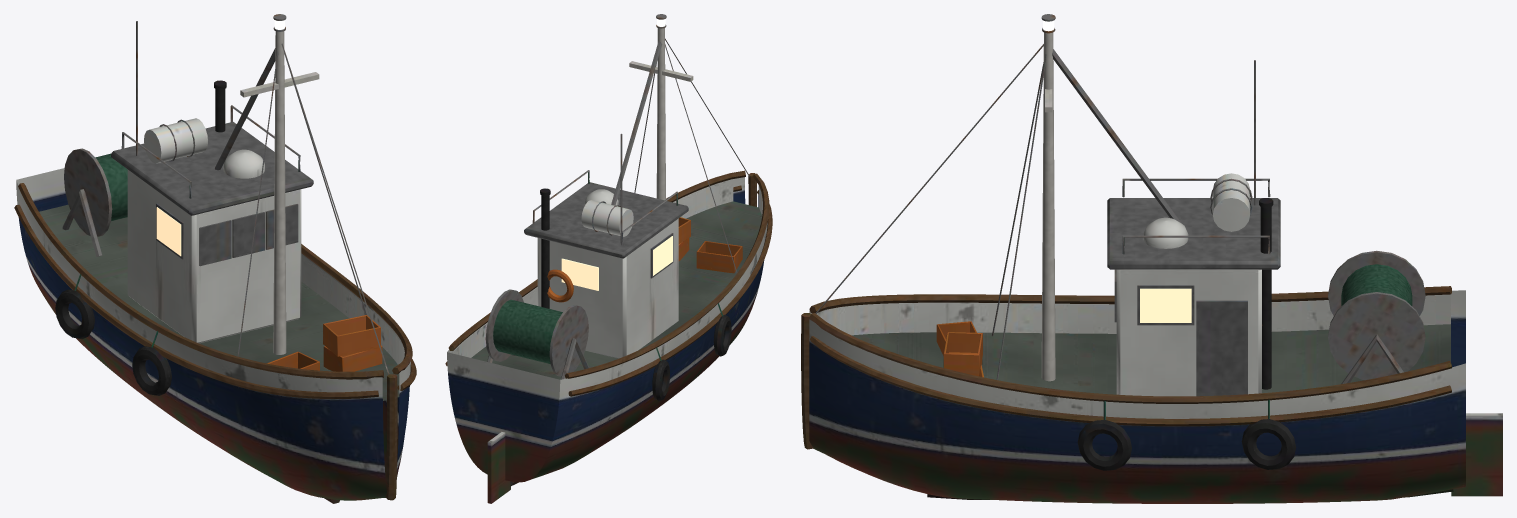
Rendered from boat.glb.
3 renders of one model, left to right at view 1: azimuth 30°, elevation 25°; view 2: azimuth 150°, elevation 25°; view 3: azimuth 270°, elevation 25°, orthographic. The views are drawn at different scales.
Visible parts, largest first — view 1: Boat_mesh, BoatWindows; view 2: Boat_mesh, BoatWindows; view 3: Boat_mesh, BoatWindows.
Boxes of the visible parts, box(x1,y1,x2,y2) form: Boat_mesh: box(14, 14, 416, 503); BoatWindows: box(156, 207, 181, 256); Boat_mesh: box(445, 14, 772, 503); BoatWindows: box(561, 236, 672, 290); Boat_mesh: box(801, 14, 1502, 503); BoatWindows: box(1140, 288, 1191, 322).
Bounding box in the file's own units: 2.95 × 5.67 × 7.48.
Materials: 3 (1 with a texture image).
